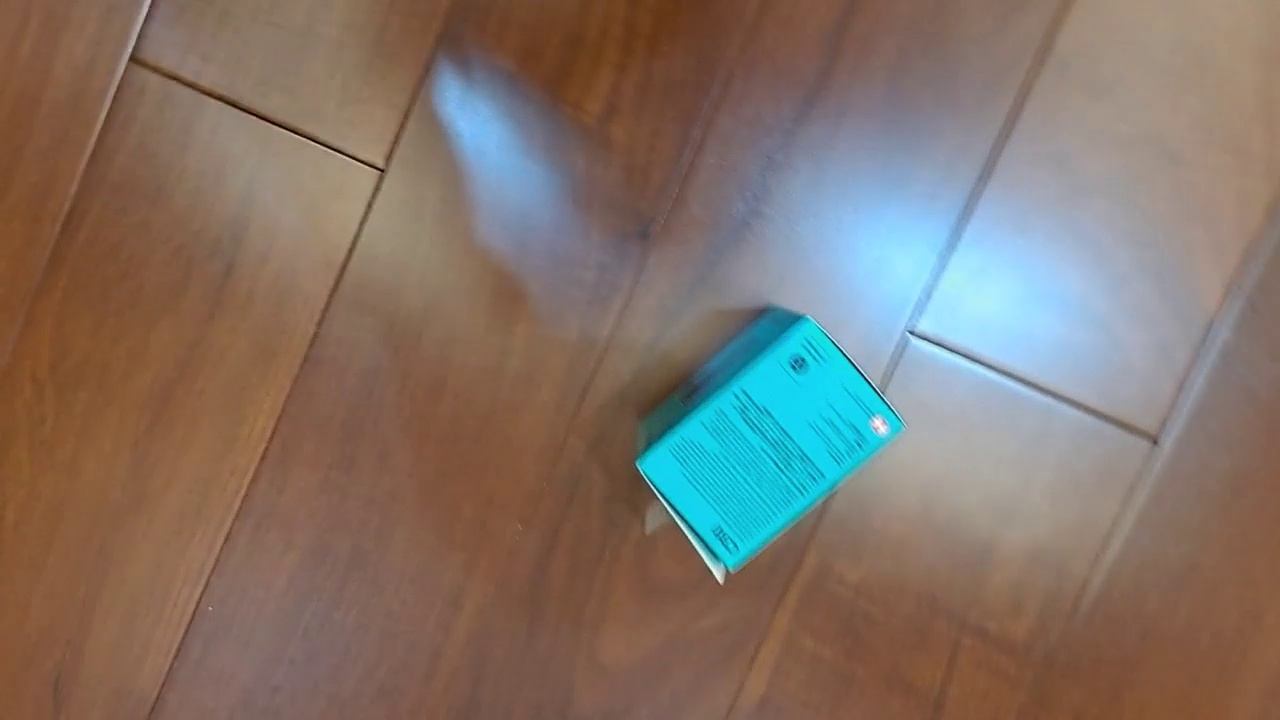webcam: (634, 303, 909, 590)
